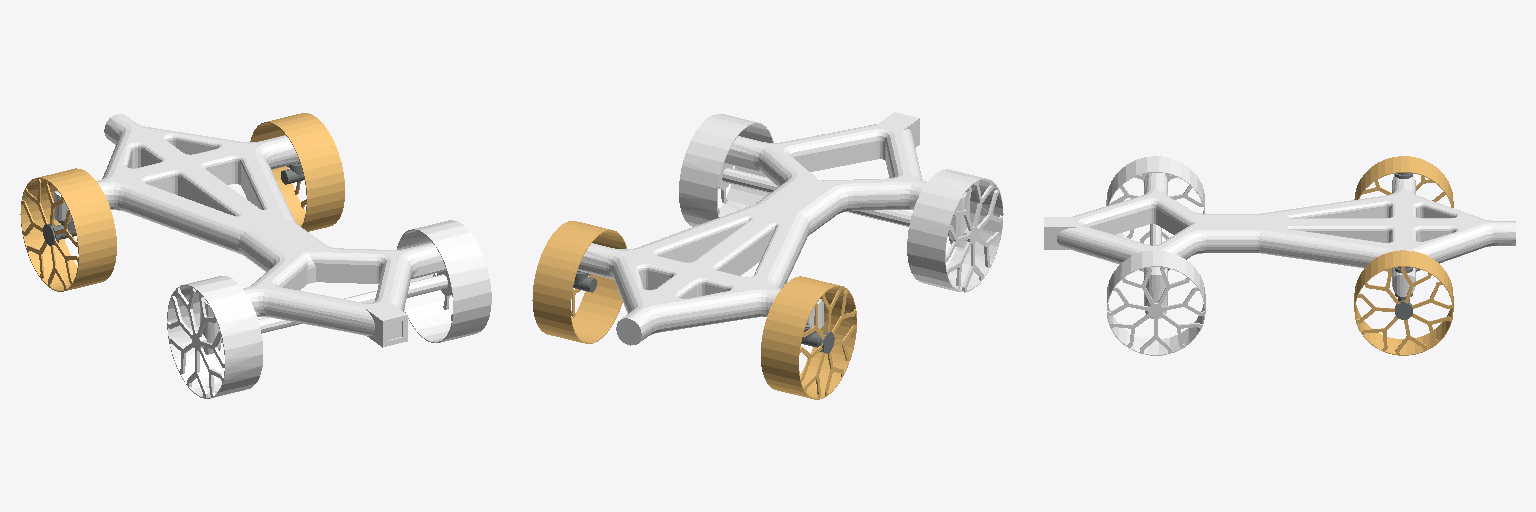
The robot description file, URDF, robot "vanda1":
<?xml version="1.0" encoding="utf-8"?>
<!-- This URDF was automatically created by SolidWorks to URDF Exporter! Originally created by [author] ([email redacted]) 
     Commit Version: 1.5.1-0-g916b5db  Build Version: 1.5.7152.31018
     For more information, please see http://wiki.ros.org/sw_urdf_exporter -->
<robot
  name="vanda1">

	<link name="dummy_link">
	</link>

	<joint
		name="dummy_link_joint" type="fixed">
		<parent link="dummy_link" />
		<child link="base_link" />
	</joint>

	<transmission name="rear_joint_transmission">
	  <type>transmission_interface/SimpleTransmission</type>
	  	<joint name="rear_joint">
	    <hardwareInterface>hardware_interface/EffortJointInterface</hardwareInterface>
	  </joint>
	  	<actuator name="rear_joint_motor">
	    <mechanicalReduction>1</mechanicalReduction>
	  </actuator>
	</transmission>


	<transmission name="axle_L_joint_transmission">
	  <type>transmission_interface/SimpleTransmission</type>
	  	<joint name="axle_L_joint">
	    <hardwareInterface>hardware_interface/EffortJointInterface</hardwareInterface>
	  </joint>
	  	<actuator name="axle_L_joint_motor">
	    <mechanicalReduction>1</mechanicalReduction>
	  </actuator>
	</transmission>

	<transmission name="wheel_L_joint_transmission">
	  <type>transmission_interface/SimpleTransmission</type>
	  	<joint name="wheel_L_joint">
	    <hardwareInterface>hardware_interface/EffortJointInterface</hardwareInterface>
	  </joint>
	  	<actuator name="wheel_L_joint_motor">
	    <mechanicalReduction>1</mechanicalReduction>
	  </actuator>
	</transmission>


	<transmission name="axle_R_joint_transmission">
	  <type>transmission_interface/SimpleTransmission</type>
	  	<joint name="axle_R_joint">
	    <hardwareInterface>hardware_interface/EffortJointInterface</hardwareInterface>
	  </joint>
	  	<actuator name="axle_R_joint_motor">
	    <mechanicalReduction>1</mechanicalReduction>
	  </actuator>
	</transmission>


	<transmission name="wheel_R_joint_transmission">
	  <type>transmission_interface/SimpleTransmission</type>
	  	<joint name="wheel_R_joint">
	    <hardwareInterface>hardware_interface/EffortJointInterface</hardwareInterface>
	  </joint>
	  	<actuator name="wheel_R_joint_motor">
	    <mechanicalReduction>1</mechanicalReduction>
	  </actuator>
	</transmission>




  <link
    name="base_link">
    <inertial>
      <origin
        xyz="-1.7202E-06 -0.026052 -0.016592"
        rpy="0 0 0" />
      <mass
        value="7.3184" />
      <inertia
        ixx="0.46741"
        ixy="-8.5881E-08"
        ixz="2.7588E-06"
        iyy="0.53589"
        iyz="0.0011101"
        izz="0.071662" />
    </inertial>
    <visual>
      <origin
        xyz="0 0 0"
        rpy="0 0 0" />
      <geometry>
        <mesh
          filename="package://vanda1/meshes/base_link.STL" />
      </geometry>
      <material
        name="">
        <color
          rgba="1 1 1 1" />
      </material>
    </visual>
    <collision>
      <origin
        xyz="0 0 0"
        rpy="0 0 0" />
      <geometry>
        <mesh
          filename="package://vanda1/meshes/base_link.STL" />
      </geometry>
    </collision>
  </link>
  <link
    name="axle_L_link">
    <inertial>
      <origin
        xyz="0.0051726 -0.048752 -5.1174E-10"
        rpy="0 0 0" />
      <mass
        value="0.67643" />
      <inertia
        ixx="0.00066353"
        ixy="7.4103E-05"
        ixz="1.5677E-11"
        iyy="0.00017491"
        iyz="1.4872E-13"
        izz="0.00076384" />
    </inertial>
    <visual>
      <origin
        xyz="0 0 0"
        rpy="0 0 0" />
      <geometry>
        <mesh
          filename="package://vanda1/meshes/axle_L_link.STL" />
      </geometry>
      <material
        name="">
        <color
          rgba="0.52941 0.54902 0.54902 1" />
      </material>
    </visual>
    <collision>
      <origin
        xyz="0 0 0"
        rpy="0 0 0" />
      <geometry>
        <mesh
          filename="package://vanda1/meshes/axle_L_link.STL" />
      </geometry>
    </collision>
  </link>
  <joint
    name="axle_L_joint"
    type="continuous">
    <origin
      xyz="-0.2286 0.254 0"
      rpy="1.5708 0 3.1416" />
    <parent
      link="base_link" />
    <child
      link="axle_L_link" />
    <axis
      xyz="0 1 0" />
  </joint>
  <link
    name="wheel_L_link">
    <inertial>
      <origin
        xyz="4.8047E-07 -6.4496E-08 -0.006751"
        rpy="0 0 0" />
      <mass
        value="1.9945" />
      <inertia
        ixx="0.010313"
        ixy="1.1778E-08"
        ixz="2.8825E-08"
        iyy="0.010313"
        iyz="-3.8693E-09"
        izz="0.018238" />
    </inertial>
    <visual>
      <origin
        xyz="0 0 0"
        rpy="0 0 0" />
      <geometry>
        <mesh
          filename="package://vanda1/meshes/wheel_L_link.STL" />
      </geometry>
      <material
        name="">
        <color
          rgba="1 0.80784 0.49804 1" />
      </material>
    </visual>
    <collision>
      <origin
        xyz="0 0 0"
        rpy="0 0 0" />
      <geometry>
        <mesh
          filename="package://vanda1/meshes/wheel_L_link.STL" />
      </geometry>
    </collision>
  </link>
  <joint
    name="wheel_L_joint"
    type="continuous">
    <origin
      xyz="0 -0.0762 0"
      rpy="1.5708 -0.3918 -1.5708" />
    <parent
      link="axle_L_link" />
    <child
      link="wheel_L_link" />
    <axis
      xyz="0 0 1" />
  </joint>
  <link
    name="axle_R_link">
    <inertial>
      <origin
        xyz="0.0051726 -0.048752 -5.1174E-10"
        rpy="0 0 0" />
      <mass
        value="0.67643" />
      <inertia
        ixx="0.00066353"
        ixy="7.4103E-05"
        ixz="1.5677E-11"
        iyy="0.00017491"
        iyz="1.4872E-13"
        izz="0.00076384" />
    </inertial>
    <visual>
      <origin
        xyz="0 0 0"
        rpy="0 0 0" />
      <geometry>
        <mesh
          filename="package://vanda1/meshes/axle_R_link.STL" />
      </geometry>
      <material
        name="">
        <color
          rgba="0.52941 0.54902 0.54902 1" />
      </material>
    </visual>
    <collision>
      <origin
        xyz="0 0 0"
        rpy="0 0 0" />
      <geometry>
        <mesh
          filename="package://vanda1/meshes/axle_R_link.STL" />
      </geometry>
    </collision>
  </link>
  <joint
    name="axle_R_joint"
    type="continuous">
    <origin
      xyz="0.2286 0.254 0"
      rpy="1.5708 0 0" />
    <parent
      link="base_link" />
    <child
      link="axle_R_link" />
    <axis
      xyz="0 1 0" />
  </joint>
  <link
    name="wheel_R_link">
    <inertial>
      <origin
        xyz="4.8047E-07 -6.4496E-08 -0.006751"
        rpy="0 0 0" />
      <mass
        value="1.9945" />
      <inertia
        ixx="0.010313"
        ixy="1.1778E-08"
        ixz="2.8825E-08"
        iyy="0.010313"
        iyz="-3.8693E-09"
        izz="0.018238" />
    </inertial>
    <visual>
      <origin
        xyz="0 0 0"
        rpy="0 0 0" />
      <geometry>
        <mesh
          filename="package://vanda1/meshes/wheel_R_link.STL" />
      </geometry>
      <material
        name="">
        <color
          rgba="1 0.80784 0.49804 1" />
      </material>
    </visual>
    <collision>
      <origin
        xyz="0 0 0"
        rpy="0 0 0" />
      <geometry>
        <mesh
          filename="package://vanda1/meshes/wheel_R_link.STL" />
      </geometry>
    </collision>
  </link>
  <joint
    name="wheel_R_joint"
    type="continuous">
    <origin
      xyz="0 -0.0762 0"
      rpy="1.5708 0.3918 -1.5708" />
    <parent
      link="axle_R_link" />
    <child
      link="wheel_R_link" />
    <axis
      xyz="0 0 1" />
  </joint>
  <link
    name="rear_link">
    <inertial>
      <origin
        xyz="-1.7202E-06 -0.026052 -0.016592"
        rpy="0 0 0" />
      <mass
        value="7.3184" />
      <inertia
        ixx="0.46741"
        ixy="-8.5881E-08"
        ixz="2.7588E-06"
        iyy="0.53589"
        iyz="0.0011101"
        izz="0.071662" />
    </inertial>
    <visual>
      <origin
        xyz="0 0 0"
        rpy="0 0 0" />
      <geometry>
        <mesh
          filename="package://vanda1/meshes/rear_link.STL" />
      </geometry>
      <material
        name="">
        <color
          rgba="1 1 1 1" />
      </material>
    </visual>
    <collision>
      <origin
        xyz="0 0 0"
        rpy="0 0 0" />
      <geometry>
        <mesh
          filename="package://vanda1/meshes/rear_link.STL" />
      </geometry>
    </collision>
  </link>
  <joint
    name="rear_joint"
    type="continuous">
    <origin
      xyz="0 -0.254 -0.0762"
      rpy="1.5708 0 0" />
    <parent
      link="base_link" />
    <child
      link="rear_link" />
    <axis
      xyz="1 0 0" />
  </joint>
</robot>

--- What the picture shows (computed from the rendered views, not written in the file) ---
The picture shows the robot from 3 angles, left to right: view 1: azimuth 30°, elevation 25°; view 2: azimuth 150°, elevation 25°; view 3: azimuth 270°, elevation 25°; orthographic projection.
Model vanda1 with 7 links and 6 joints (5 continuous, 1 fixed), rooted at dummy_link, posed all joints at 0.
Links seen in each view (by area): view 1: base_link, rear_link, wheel_L_link, wheel_R_link; view 2: base_link, rear_link, wheel_L_link, wheel_R_link; view 3: base_link, rear_link, wheel_R_link, wheel_L_link.
Link boxes in pixels (<box>): base_link: <box>54,114,451,354</box>; rear_link: <box>167,220,491,398</box>; wheel_L_link: <box>20,168,116,291</box>; wheel_R_link: <box>250,113,344,231</box>; base_link: <box>578,112,969,345</box>; rear_link: <box>679,114,1003,292</box>; wheel_L_link: <box>761,276,856,399</box>; wheel_R_link: <box>532,221,626,343</box>; base_link: <box>1044,173,1515,318</box>; rear_link: <box>1106,156,1205,355</box>; wheel_R_link: <box>1354,250,1453,355</box>; wheel_L_link: <box>1354,156,1453,207</box>.
Bounding box of the posed robot: 0.5385 × 0.9652 × 0.2031 m (x, y, z).
6 mesh visuals loaded from 6 distinct referenced files (6 binary STL).
